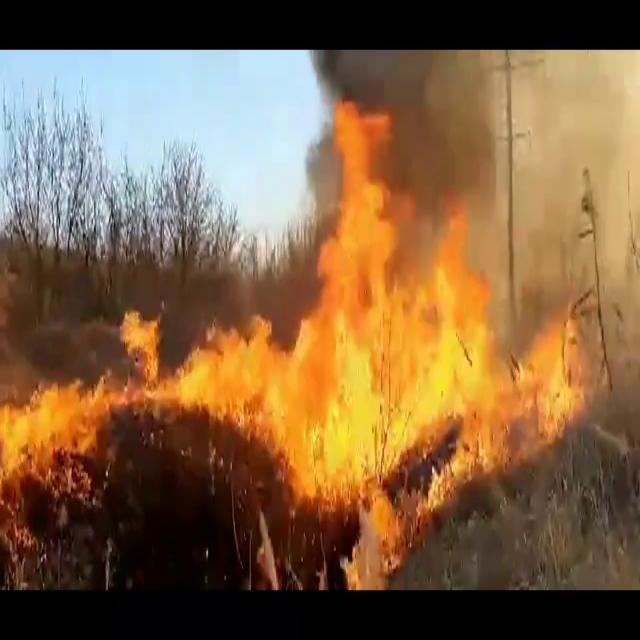Fire: (194, 92, 584, 526), (1, 362, 117, 542), (108, 302, 184, 419)
Smoke: (474, 44, 640, 350)
